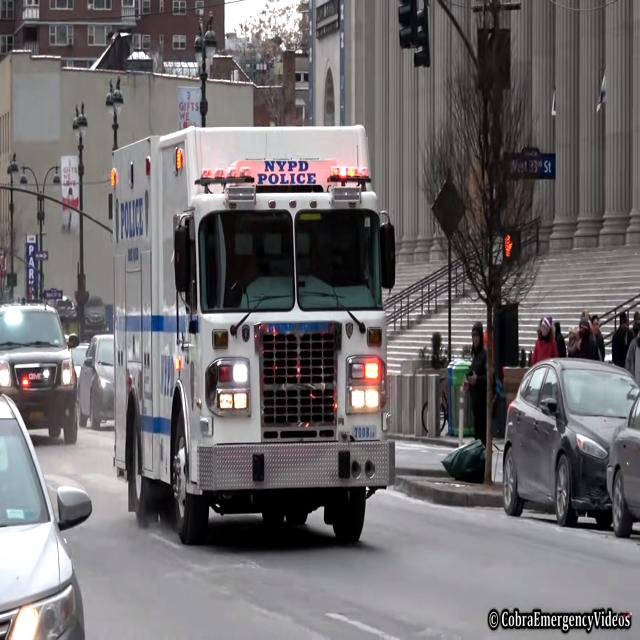emergency-vehicles: (94, 120, 407, 549)
